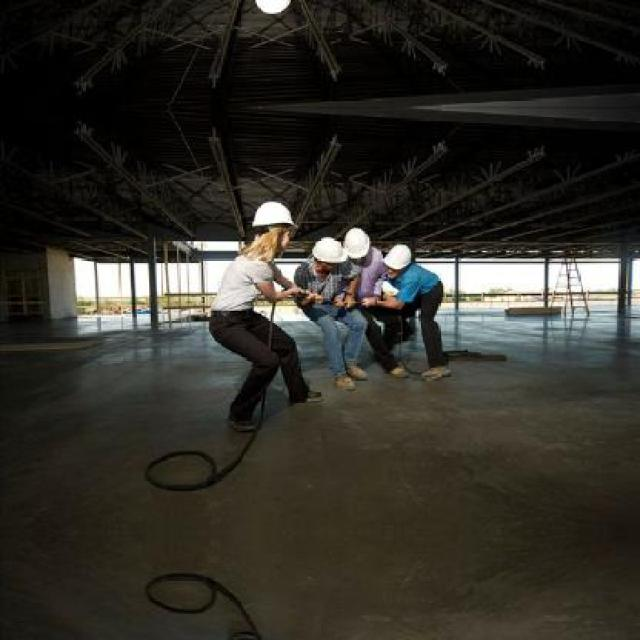helmet: (252, 200, 296, 252), (309, 235, 346, 272), (342, 224, 372, 262), (380, 242, 411, 276), (252, 0, 297, 14)
